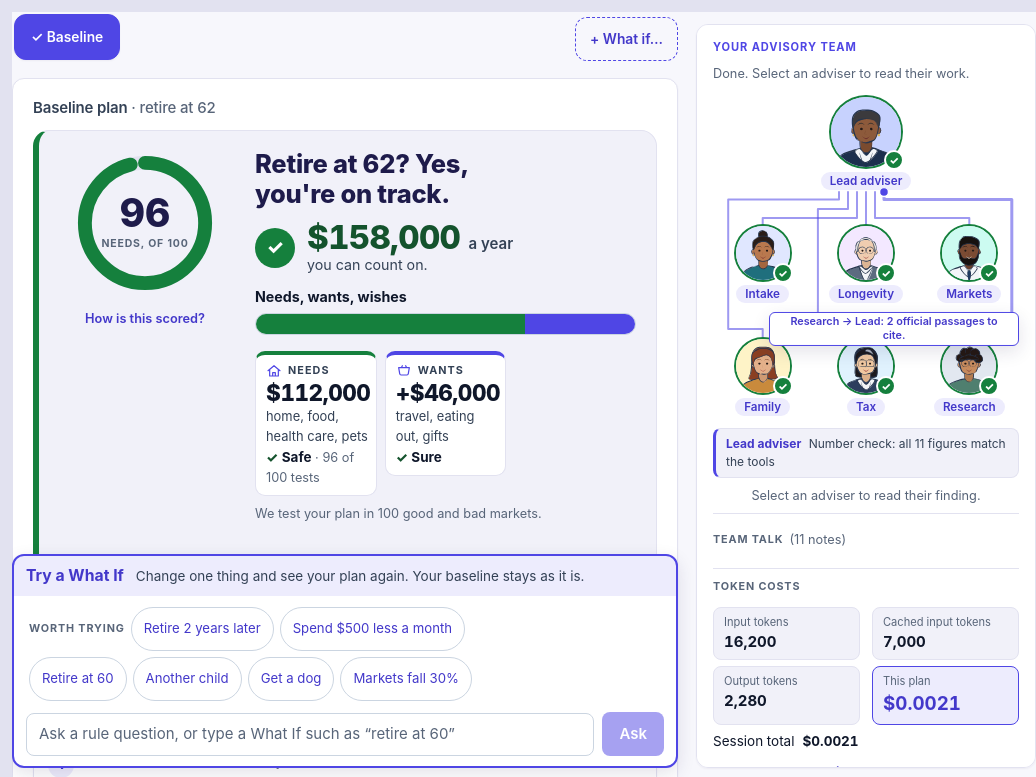
Plan screen: scenario tabs › the ✕ removes a What If and moves focus to the tab beside it
Click the button "Retire at 60".
click(78, 679)  # box 29,657 -> 127,701
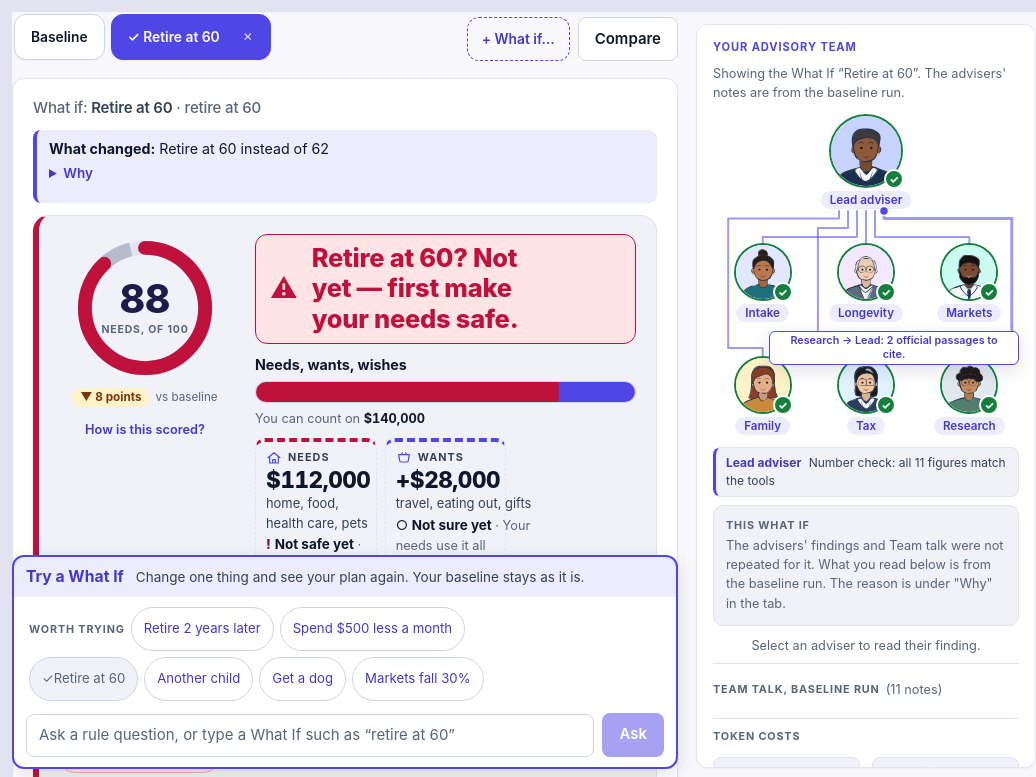
Click the button "Another child".
click(199, 679)  # box 144,657 -> 253,701
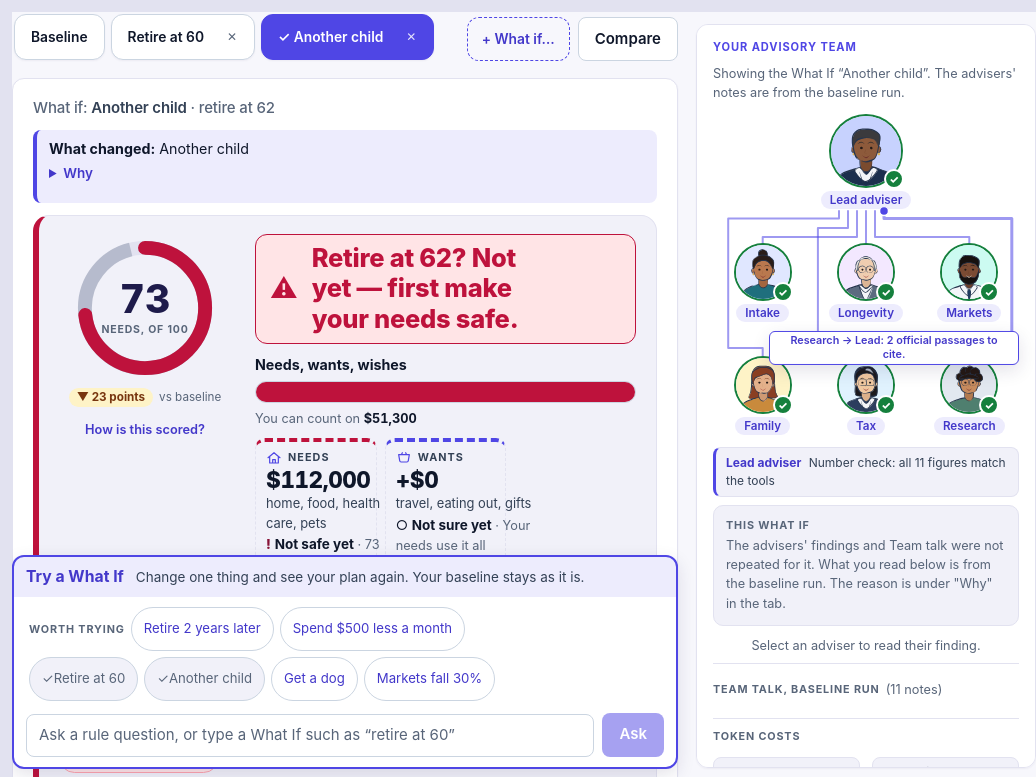
Click the 2nd button "✕".
click(411, 37)  # box 389,15 -> 433,59
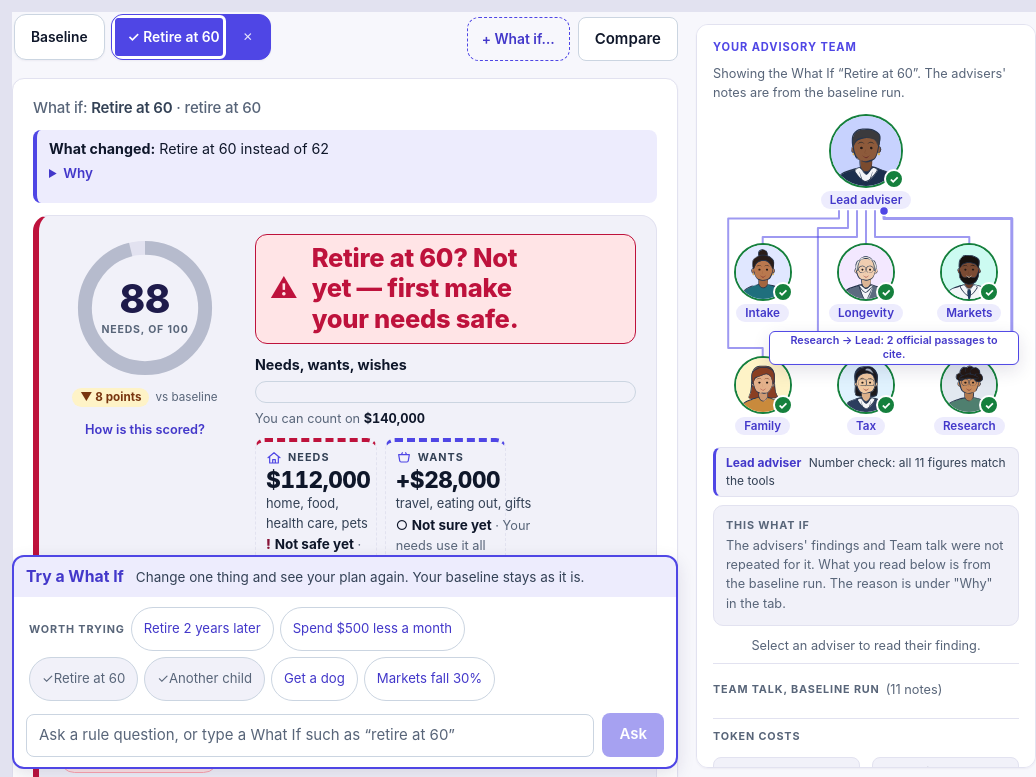
Now the tab "Retire at 60" is shown, box 112,15 -> 226,59
Click the button "✕".
click(248, 37)  # box 226,15 -> 270,59
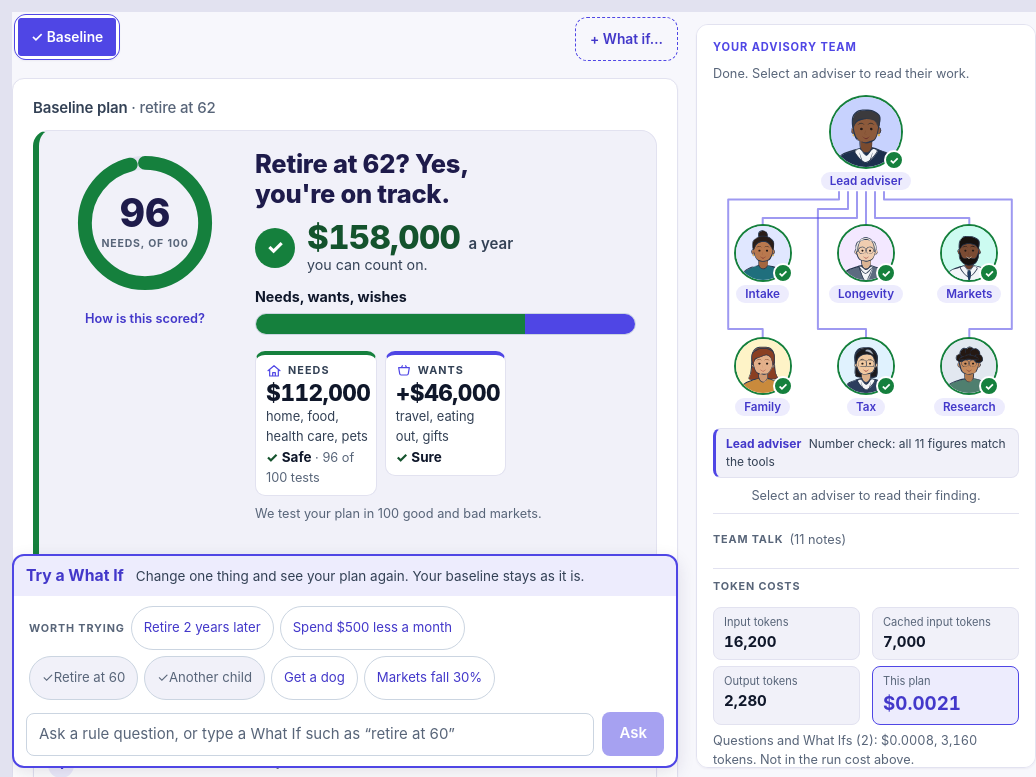
Now the heading "Baseline plan · retire at 62" is shown, box 33,98 -> 216,117
